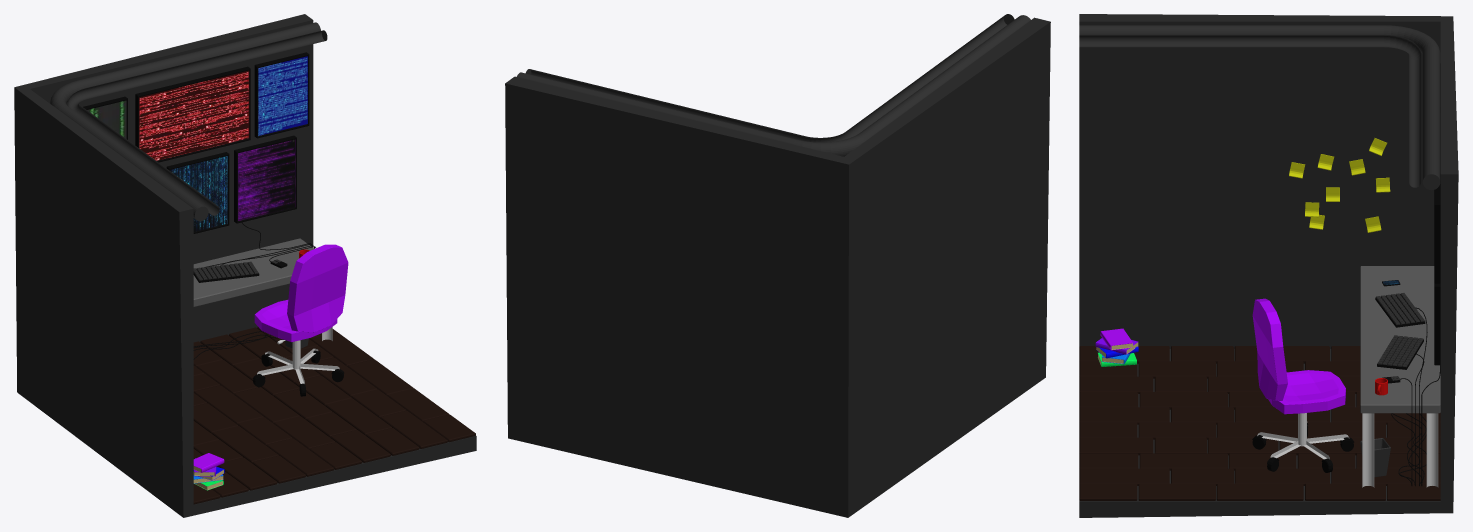
File: iso-hacker-room.glb
The picture shows the model from 3 angles, left to right: view 1: azimuth 30°, elevation 25°; view 2: azimuth 150°, elevation 25°; view 3: azimuth 270°, elevation 25°; orthographic projection. The views are drawn at different scales.
Visible parts, largest first — view 1: Plane; view 2: Plane; view 3: Plane.
Part boxes in pixels (x1,y1,x2,y2): Plane: [14, 14, 476, 517]; Plane: [505, 14, 1050, 517]; Plane: [1079, 14, 1458, 517].
Bounding box in the file's own units: 210 × 210 × 210.
42 materials, 7 textured.
